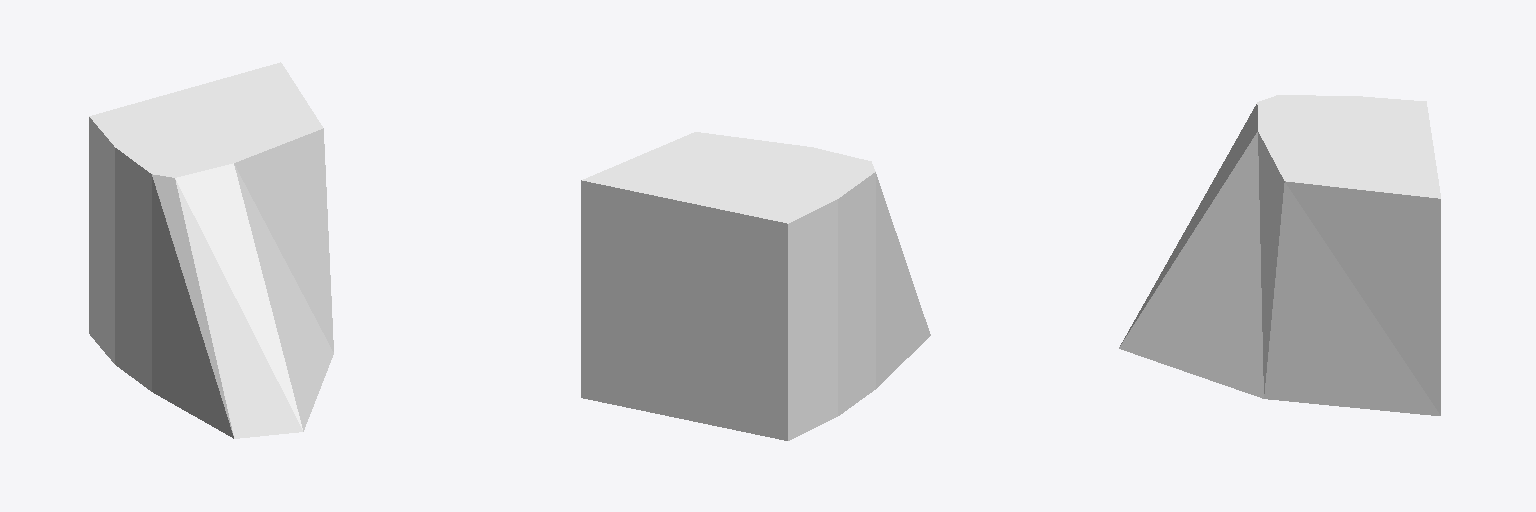
The model's file is Target Platform left.obj.
The picture shows the model from 3 angles: view 1: azimuth 30°, elevation 25°; view 2: azimuth 150°, elevation 25°; view 3: azimuth 270°, elevation 25°; orthographic projection.
Parts seen in each view (by area): view 1: Target Platform left; view 2: Target Platform left; view 3: Target Platform left.
Boxes of the visible parts, <box> form: Target Platform left: <box>89,62,333,438</box>; Target Platform left: <box>581,132,930,440</box>; Target Platform left: <box>1119,95,1440,415</box>.
Size of the model in its own units: 38.34 by 37.61 by 50.57.